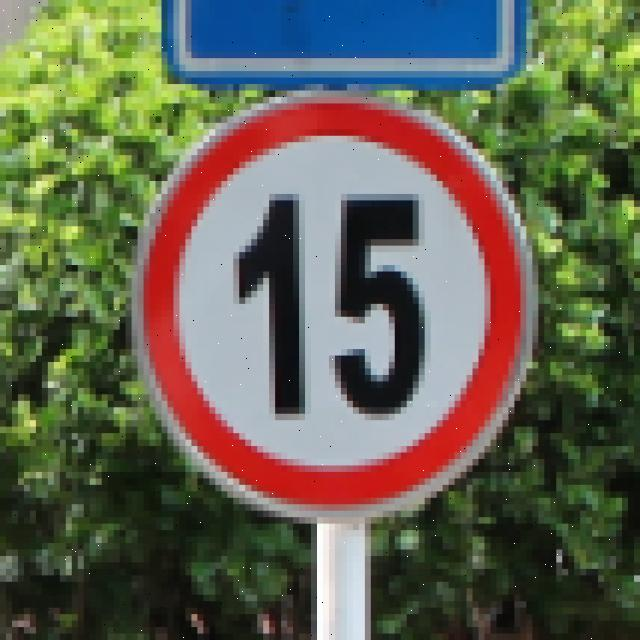speed limit 20: (136, 97, 530, 524)
